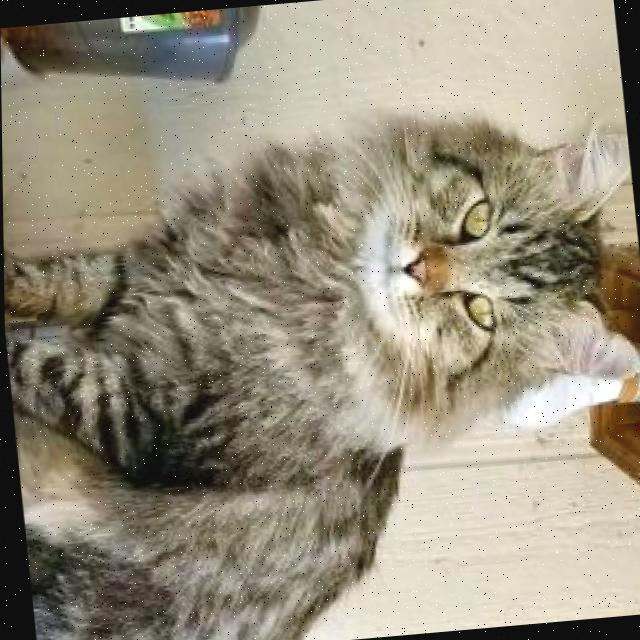Maine Coon: (1, 101, 640, 640)
